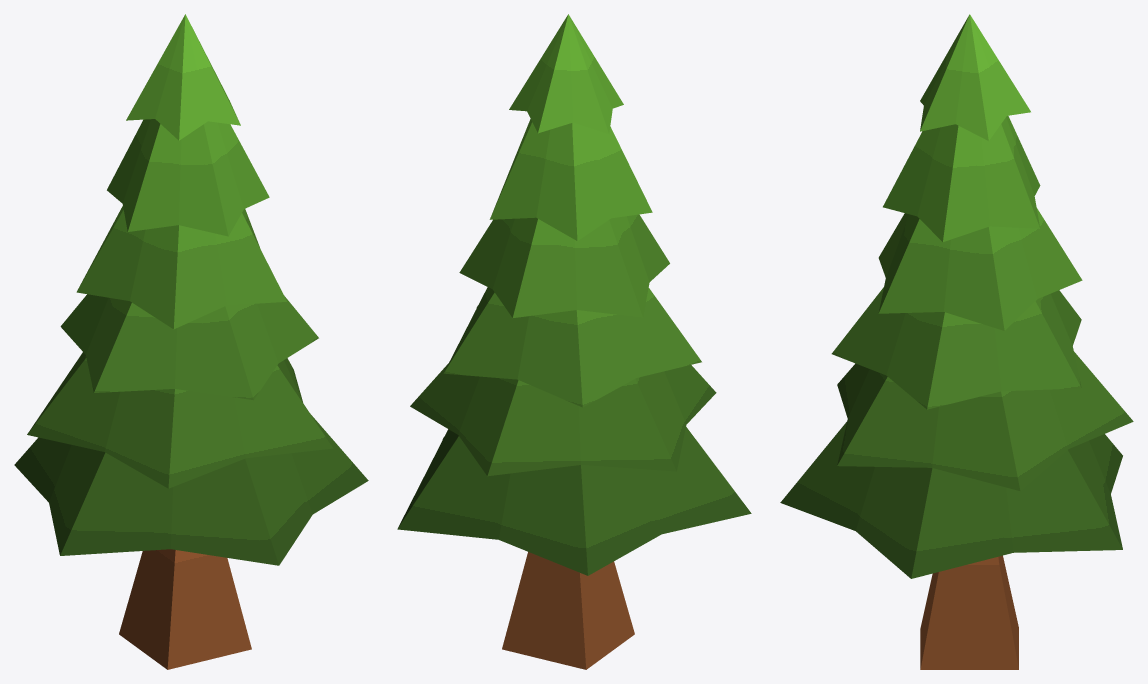
Rendered from tree-0.fbx.
The picture shows the model from 3 angles, left to right: view 1: azimuth 30°, elevation 25°; view 2: azimuth 150°, elevation 25°; view 3: azimuth 270°, elevation 25°; orthographic projection.
Visible parts, largest first — view 1: Cube.002; view 2: Cube.002; view 3: Cube.002.
Part boxes in pixels (left/top/right/bottom): Cube.002: left=14, top=14, right=368, bottom=669; Cube.002: left=397, top=14, right=751, bottom=669; Cube.002: left=780, top=14, right=1133, bottom=669.
Size of the model in its own units: 266 by 517 by 261.
